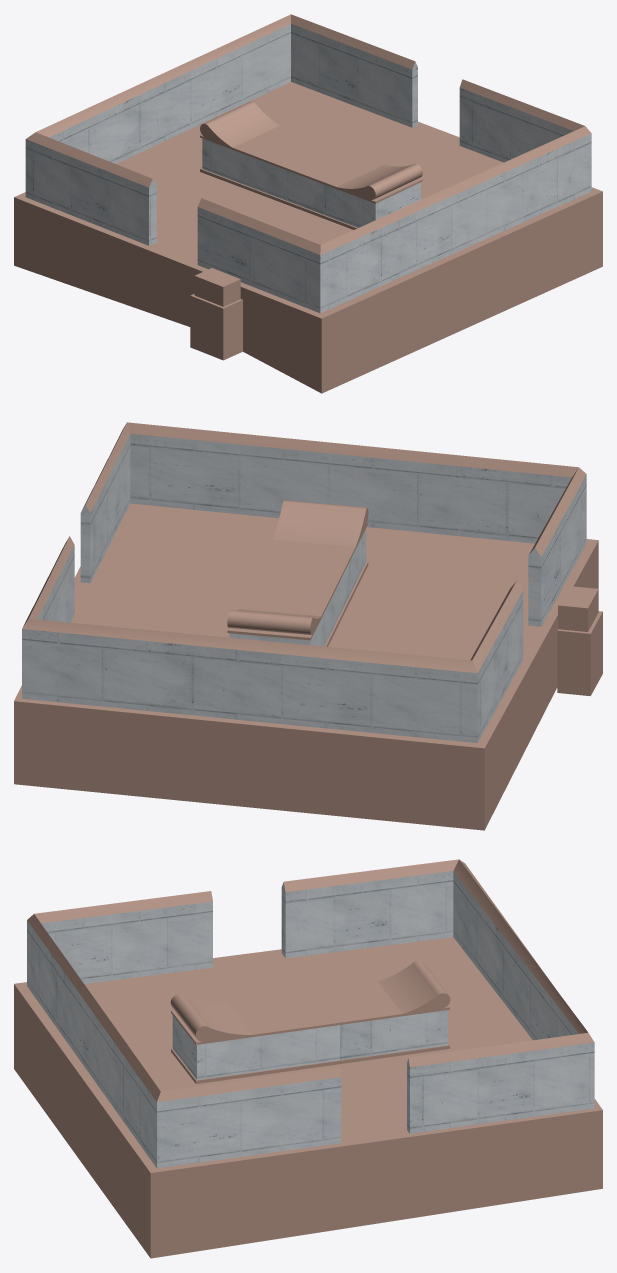
File: 12gods.fbx
3 renders of one model, top to bottom at view 1: azimuth 30°, elevation 25°; view 2: azimuth 150°, elevation 25°; view 3: azimuth 270°, elevation 25°, orthographic. The views are drawn at different scales.
Visible parts, largest first — view 1: Model; view 2: Model; view 3: Model.
Part boxes in pixels (x1,y1,x2,y2): Model: (14, 14, 602, 393); Model: (14, 422, 602, 830); Model: (14, 859, 602, 1258).
Size of the model in its own units: 11726 by 3516 by 11752.
